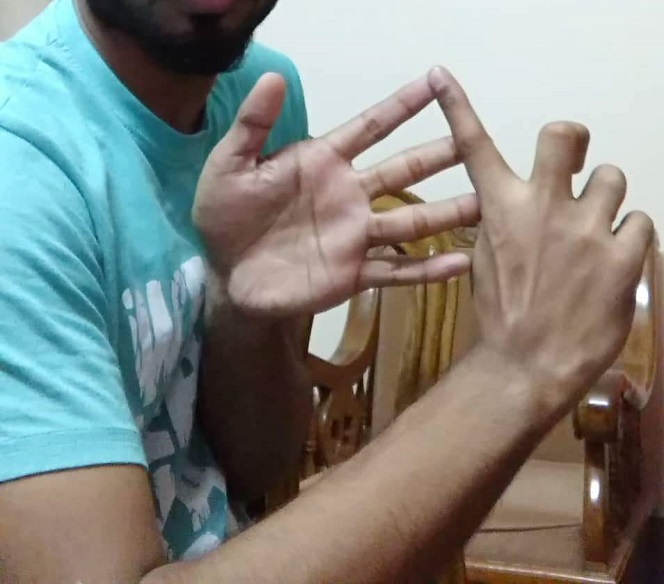o: (241, 70, 635, 286)
